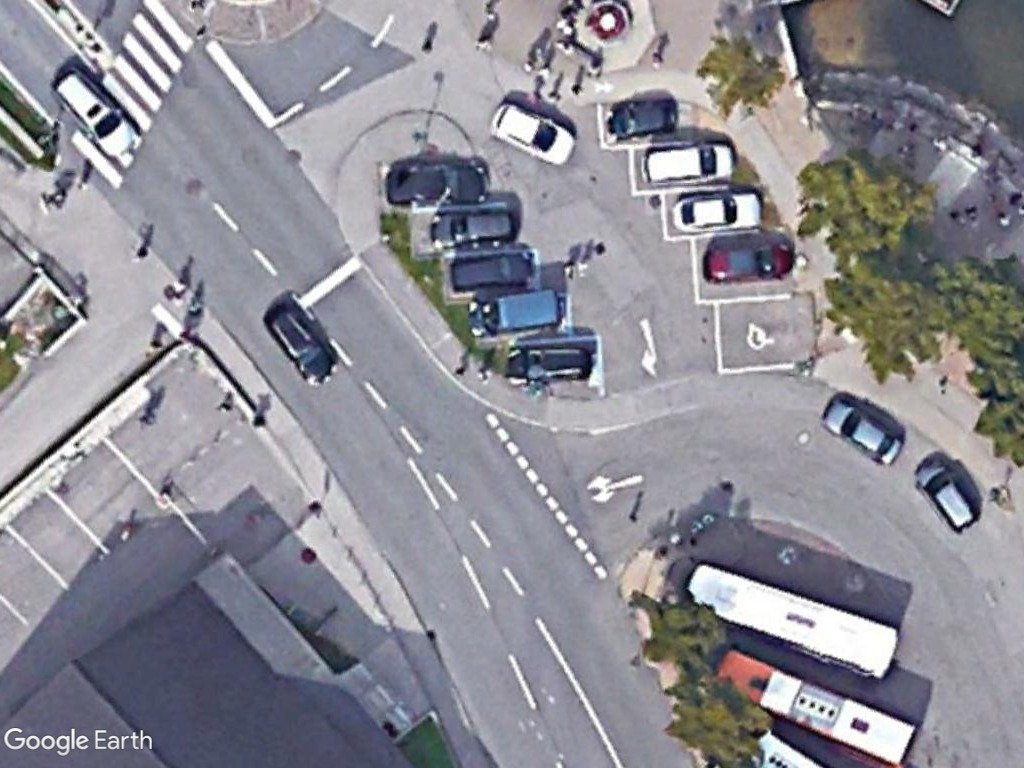bus: (673, 556, 904, 684), (709, 643, 922, 762)
car: (51, 64, 140, 163), (262, 302, 341, 388), (816, 394, 904, 470), (484, 102, 579, 169), (910, 455, 981, 535), (382, 159, 490, 211), (639, 138, 739, 192), (699, 239, 799, 290), (445, 245, 539, 299), (669, 186, 769, 236), (423, 204, 518, 256), (499, 341, 597, 389)
van: (463, 281, 565, 340)
